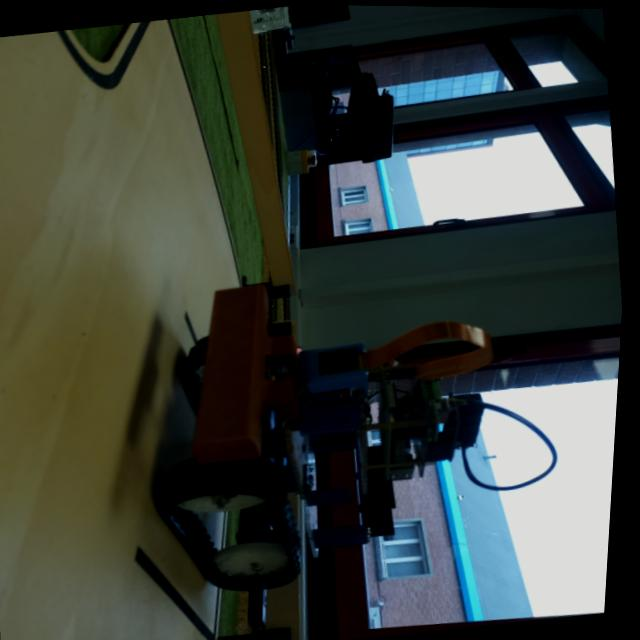obstacle_voiture: (121, 247, 505, 609)
